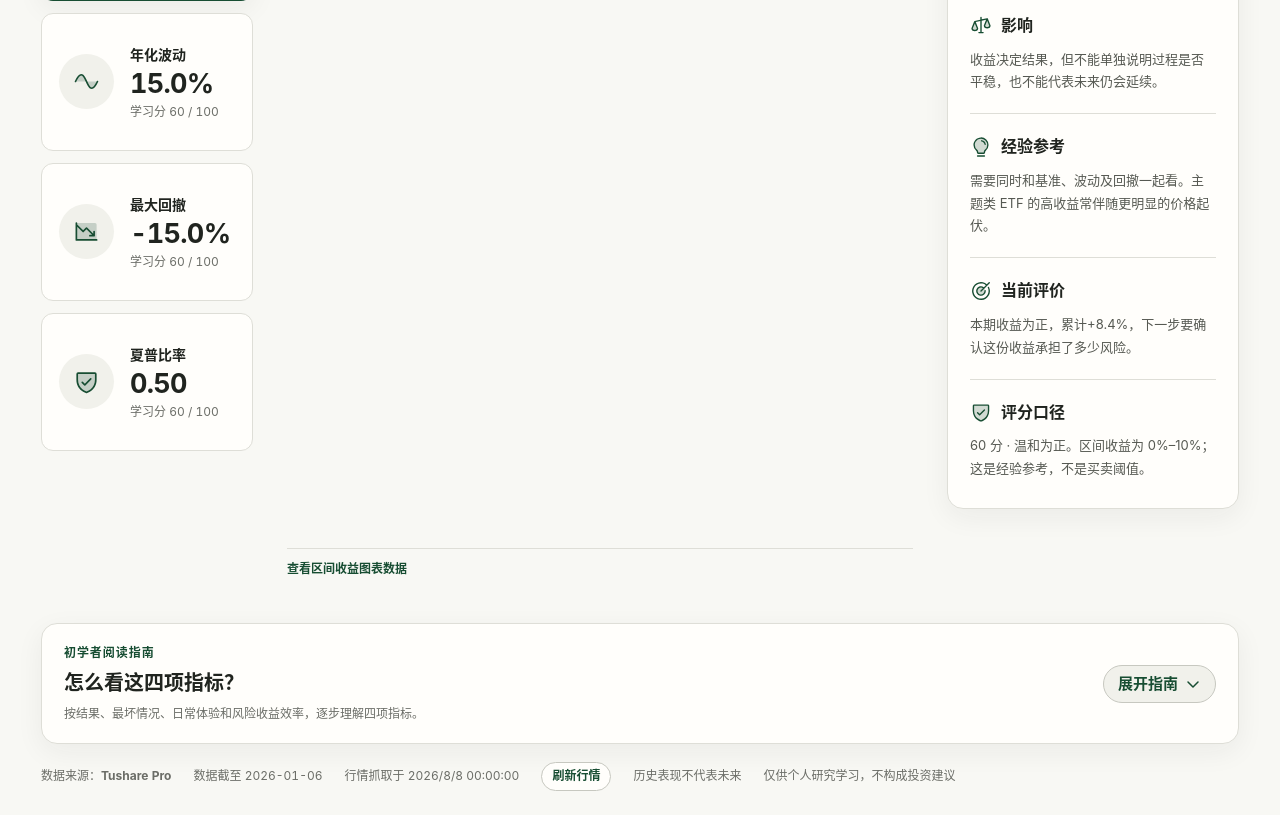
App › loads the default ETF and shows provenance
(page scrolled)
Click the heading "查看区间收益图表数据": {"x": 347, "y": 569} [287,561,407,576]
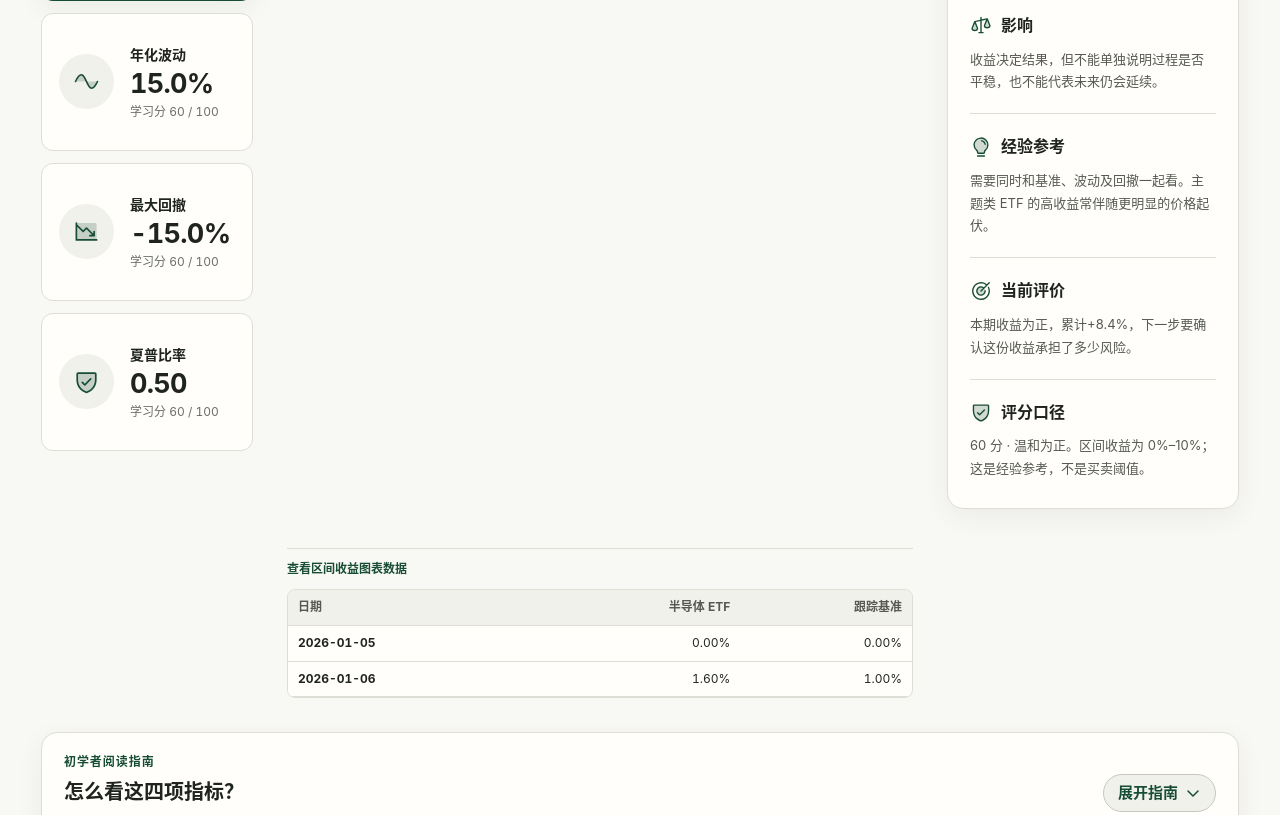
expect the button "年化波动 15.0% 学习分 60 / 100" is shown: met, box [41,13,253,151]
expect the table is shown: met, box [288,590,912,697]
Click the button "展开指南": {"x": 1160, "y": 793} [1103,774,1216,812]
(page scrolled)
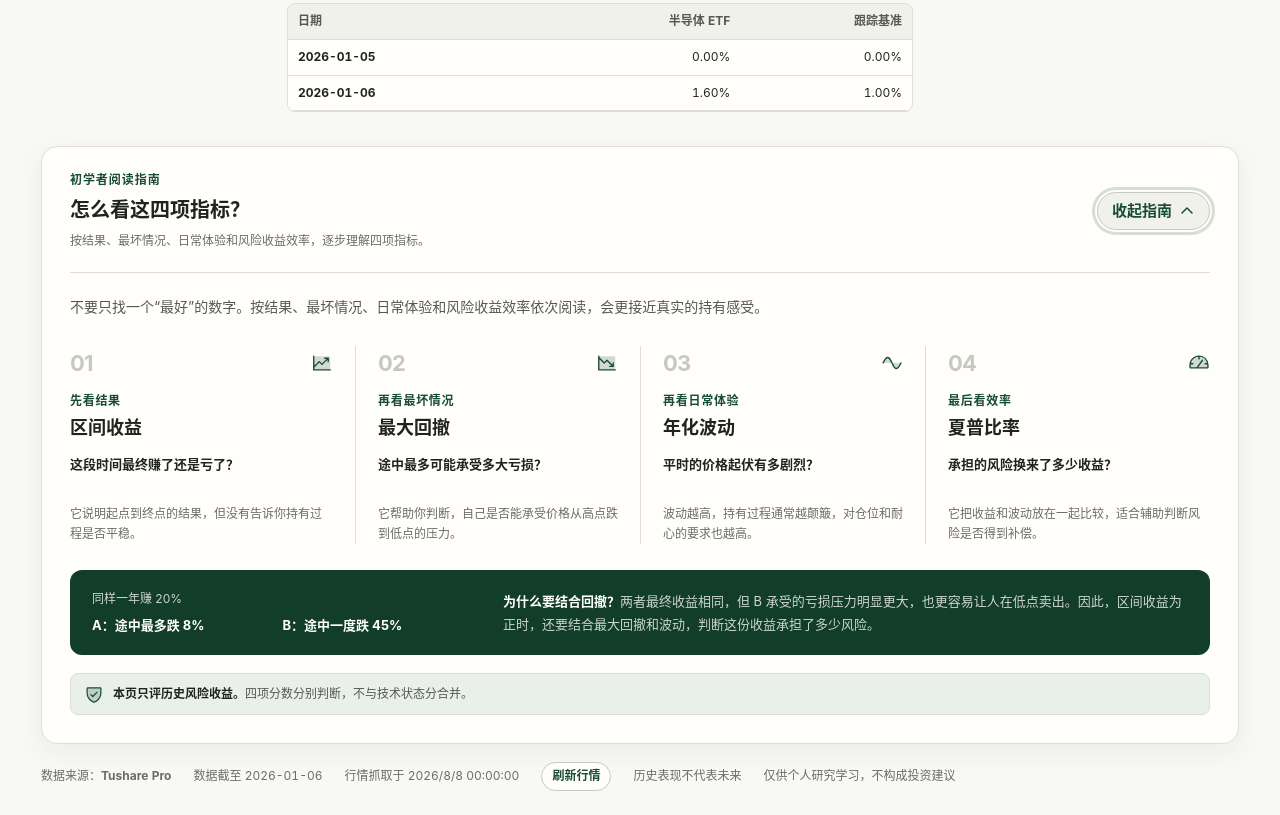
expect the text "Tushare Pro" is shown: met, box [101,768,172,783]
expect the button "收起指南" is expanded: met, box [1097,192,1210,230]
expect the text "区间收益为正时，还要结合最大回撤和波动" is shown: met, box [503,593,1182,632]
